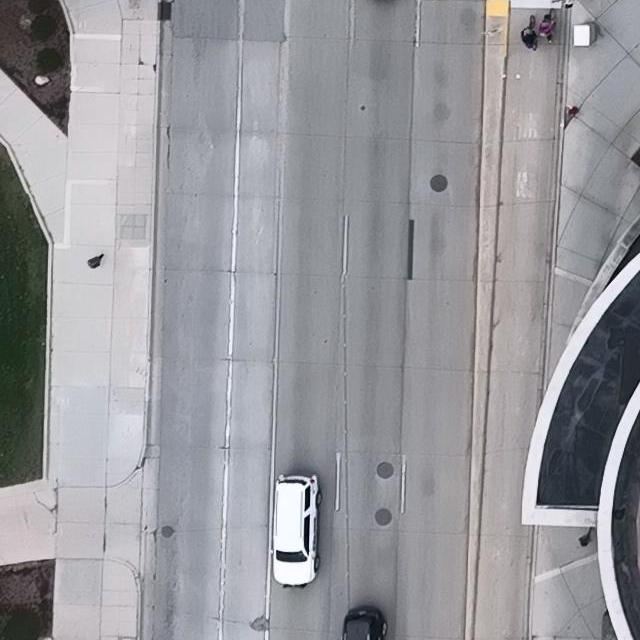car: (269, 472, 322, 587), (342, 604, 388, 640)
